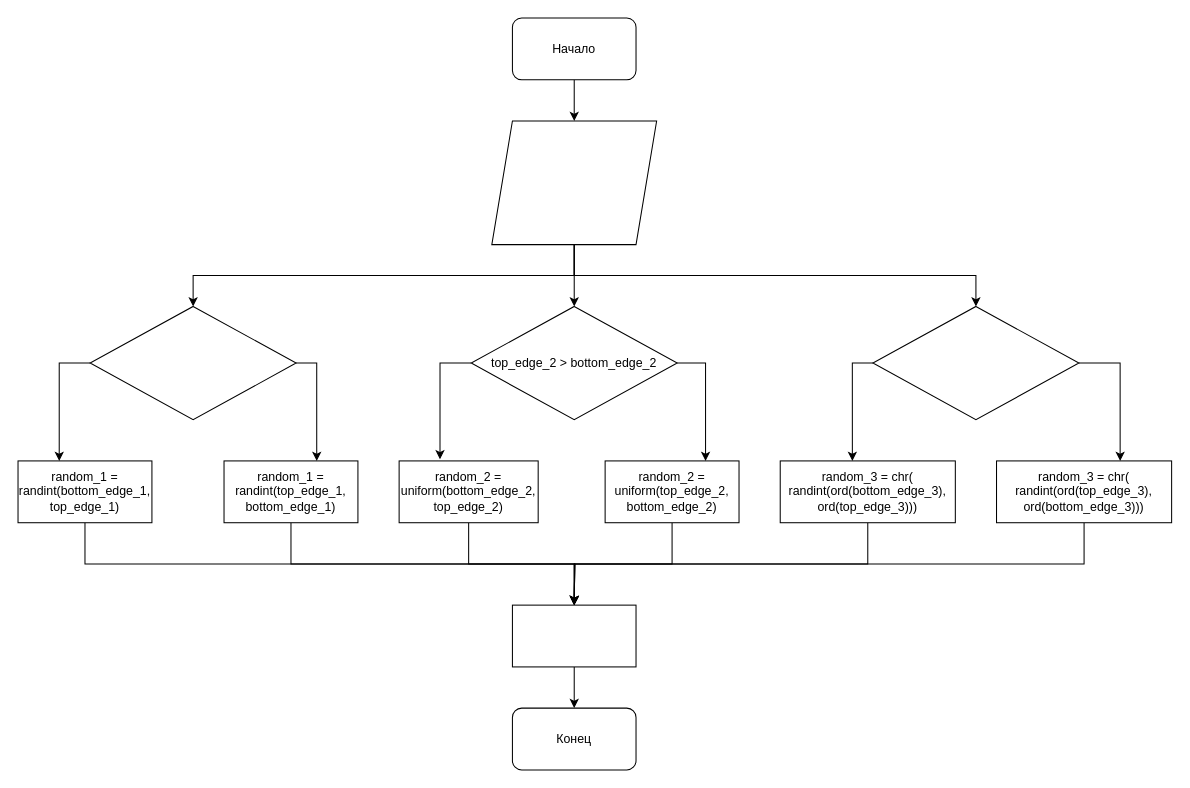
This 1190x788 diagram has some shape labels left out. The centre of each missing label's shape, as x and y in pixels:
"ord(top_edge_3) > ord(bottom_edge_3)" goes at [975,362].
"print(random_1) print(random_2) print(random_3)" goes at [573,635].
"top_edge_1 > bottom_edge_1" goes at [192,362].
"top_edge_1 bottom_edge_1 top_edge_2 bottom_edge_2 top_edge_3 bottom_edge_3" goes at [574,182].
